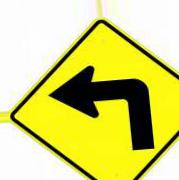left: (8, 17, 179, 180)
